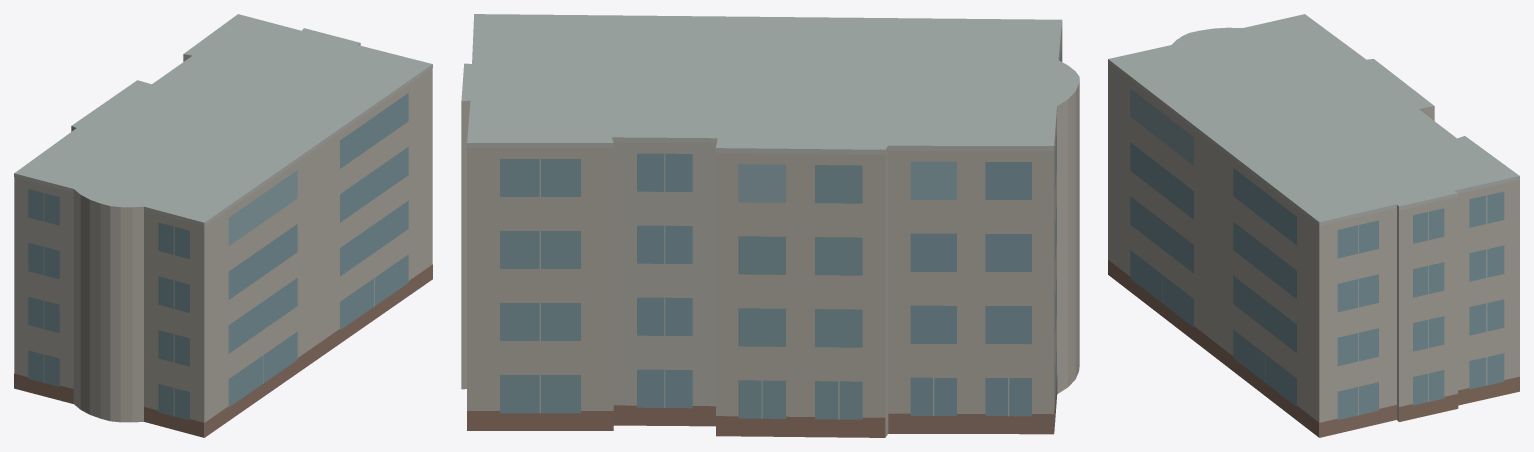
Rendered from survey-upis-32793589.glb.
The picture shows the model from 3 angles, left to right: view 1: azimuth 30°, elevation 25°; view 2: azimuth 150°, elevation 25°; view 3: azimuth 270°, elevation 25°; orthographic projection. The views are drawn at different scales.
Parts seen in each view (by area): view 1: survey-upis-32793589.tmp; view 2: survey-upis-32793589.tmp; view 3: survey-upis-32793589.tmp.
Boxes of the visible parts, box(x1,y1,x2,y2) form: survey-upis-32793589.tmp: box(14, 14, 432, 437); survey-upis-32793589.tmp: box(461, 14, 1079, 437); survey-upis-32793589.tmp: box(1108, 14, 1519, 437).
Size of the model in its own units: 28.8 by 13.9 by 24.07.
